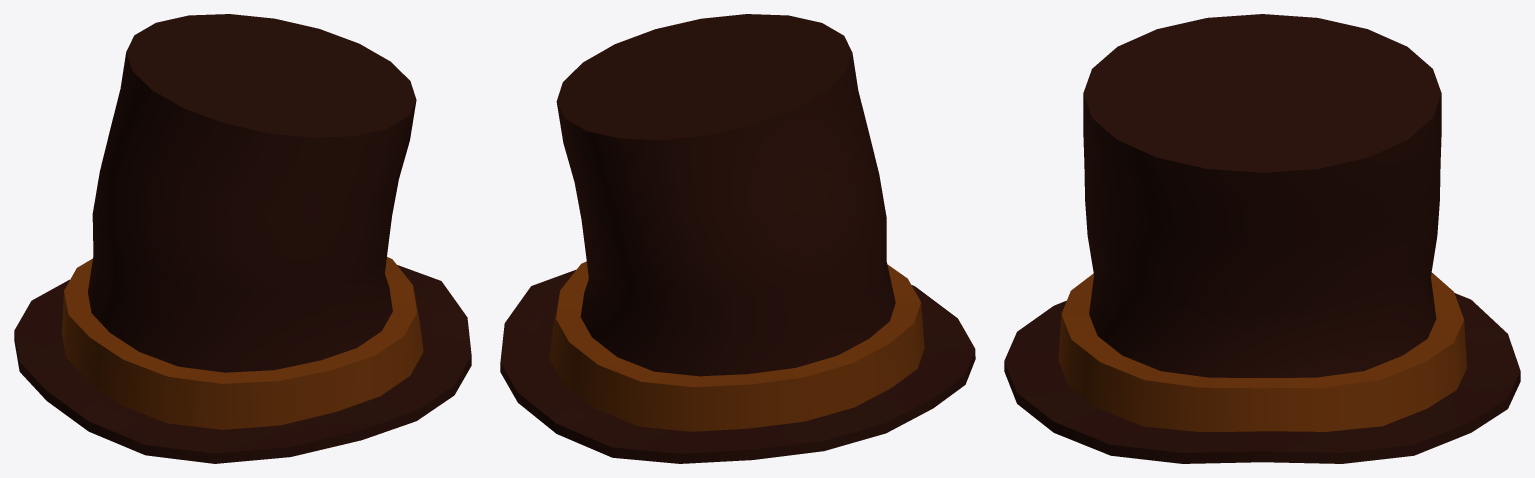
File: hat.fbx
3 views of the same model, side by side, from view 1: azimuth 30°, elevation 25°; view 2: azimuth 150°, elevation 25°; view 3: azimuth 270°, elevation 25° (orthographic). The views are drawn at different scales.
Visible parts, largest first — view 1: TopHat; view 2: TopHat; view 3: TopHat.
Part boxes in pixels (<box>): TopHat: <box>14,14,471,463</box>; TopHat: <box>500,14,975,463</box>; TopHat: <box>1004,14,1520,463</box>.
Size of the model in its own units: 6444 by 4606 by 6723.
1 material, 1 textured.
